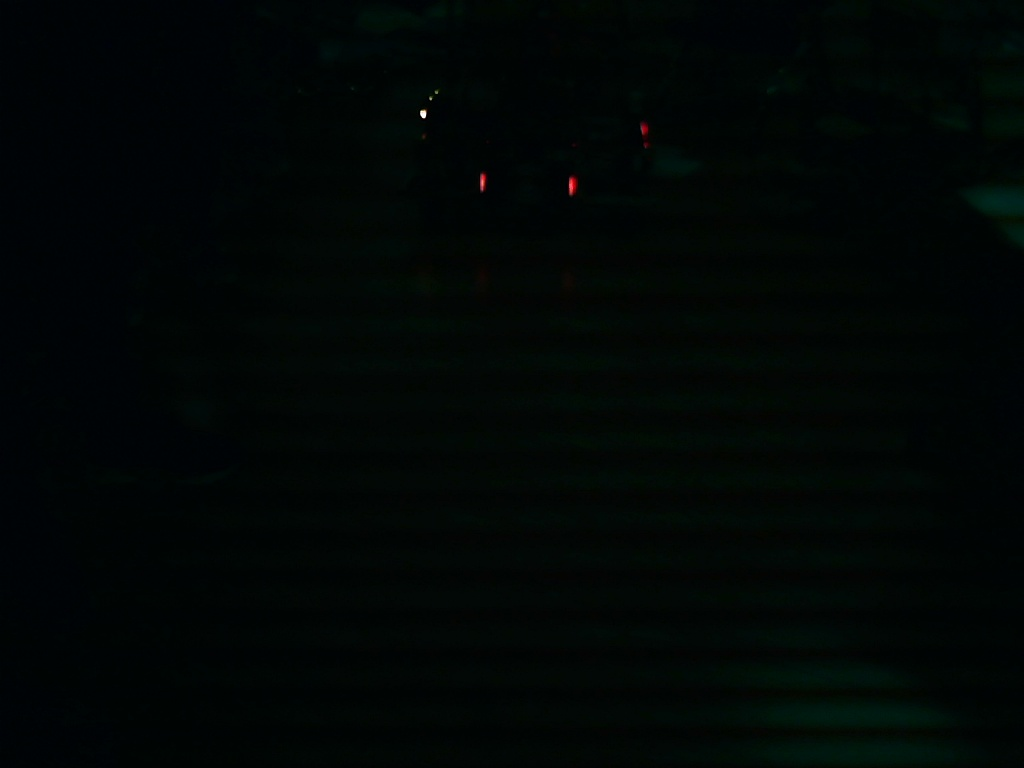lamp: (562, 170, 580, 204), (475, 170, 489, 200)
